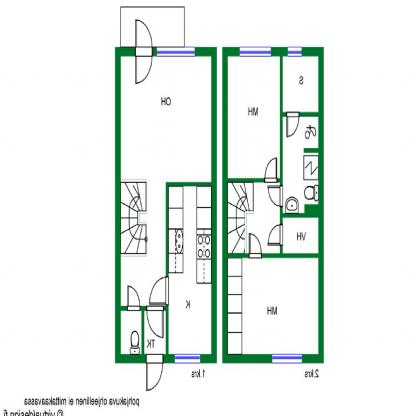door: (132, 17, 154, 87), (146, 354, 164, 390), (146, 306, 164, 338), (148, 276, 169, 303), (263, 156, 278, 187), (287, 110, 300, 141), (267, 224, 284, 247), (249, 233, 263, 260), (267, 185, 284, 205), (127, 284, 140, 310)
window: (158, 48, 196, 57), (273, 354, 302, 364), (241, 47, 271, 56), (175, 355, 200, 364), (289, 46, 302, 55)
zone: (121, 58, 212, 304), (228, 258, 317, 354), (168, 187, 211, 356), (227, 55, 281, 178), (282, 114, 320, 214), (228, 181, 280, 252), (121, 8, 185, 46), (283, 56, 318, 112), (282, 218, 318, 254), (144, 308, 165, 354), (120, 312, 142, 355)
